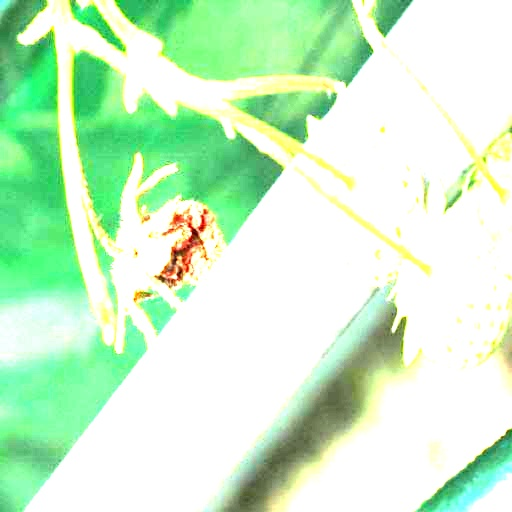Gray Mold: (101, 154, 227, 364)
